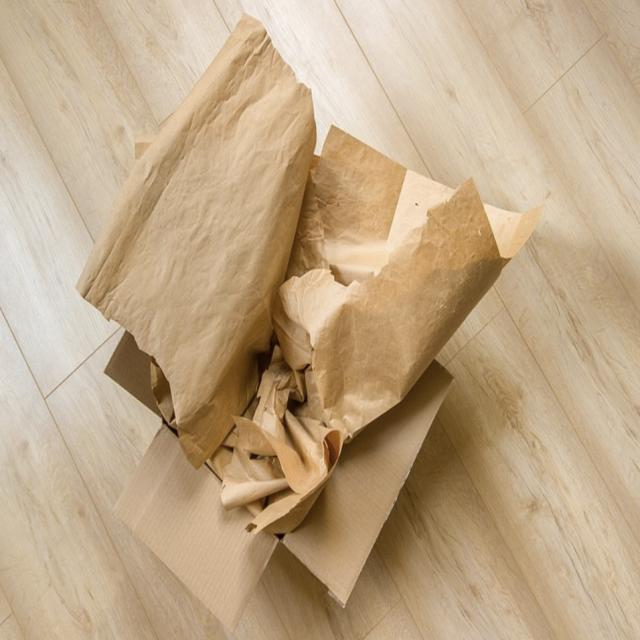biodegradable: (83, 19, 544, 618)
